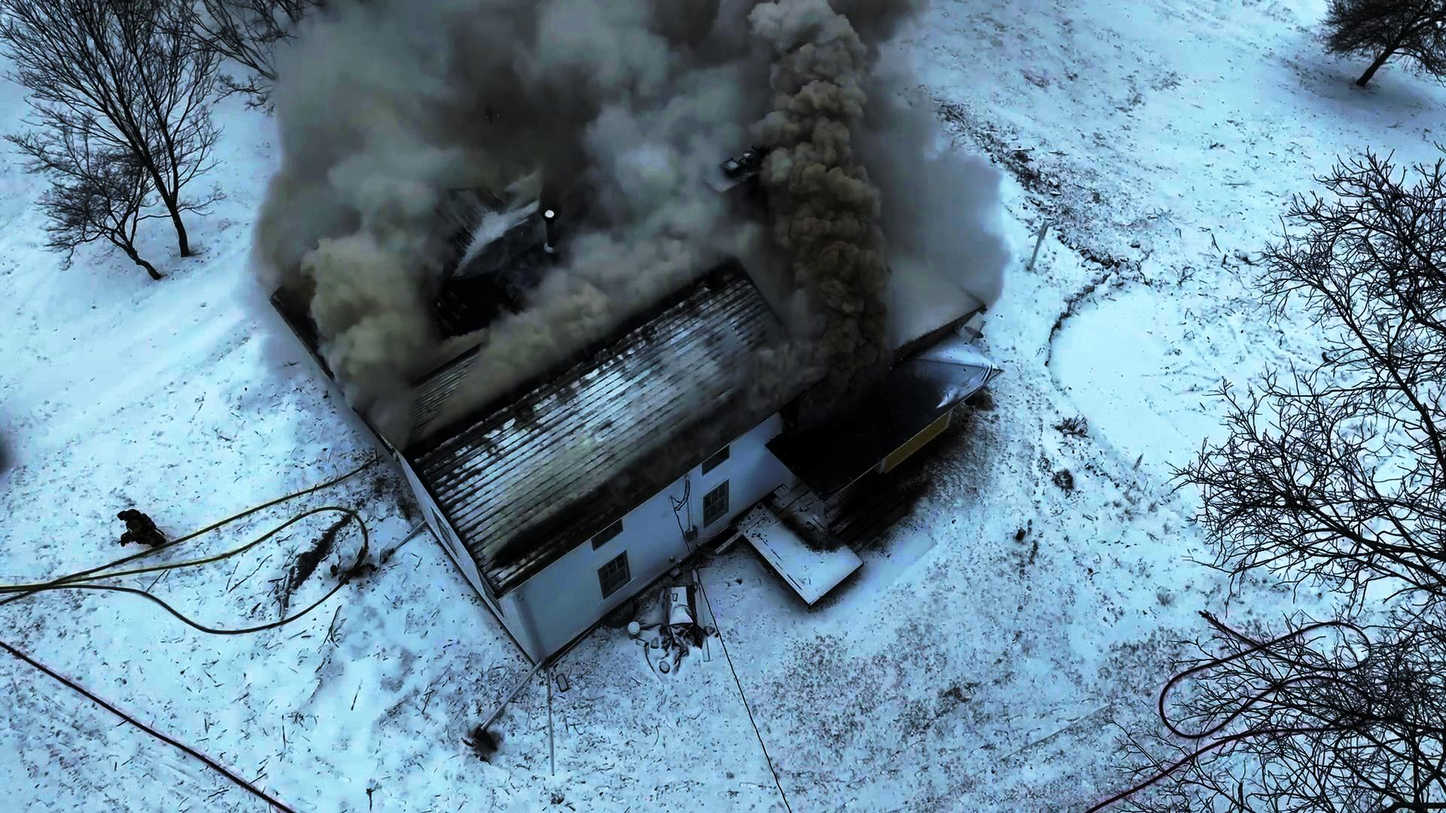smoke: (742, 87, 876, 381)
